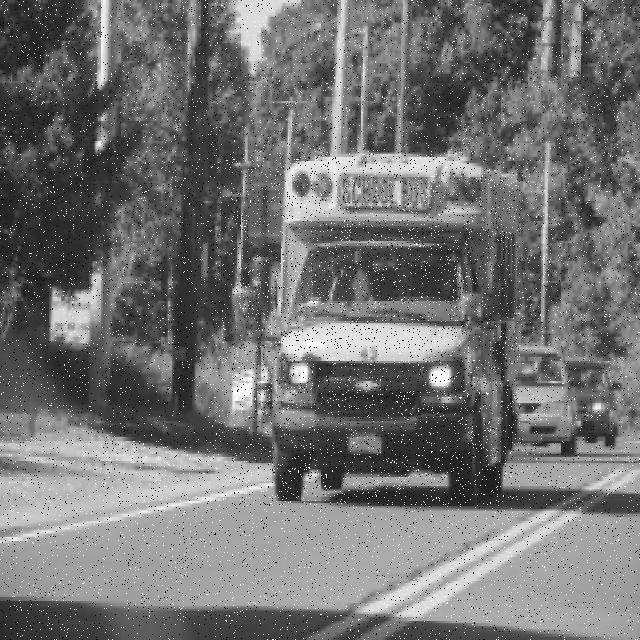Bus- Small: (232, 154, 520, 507)
